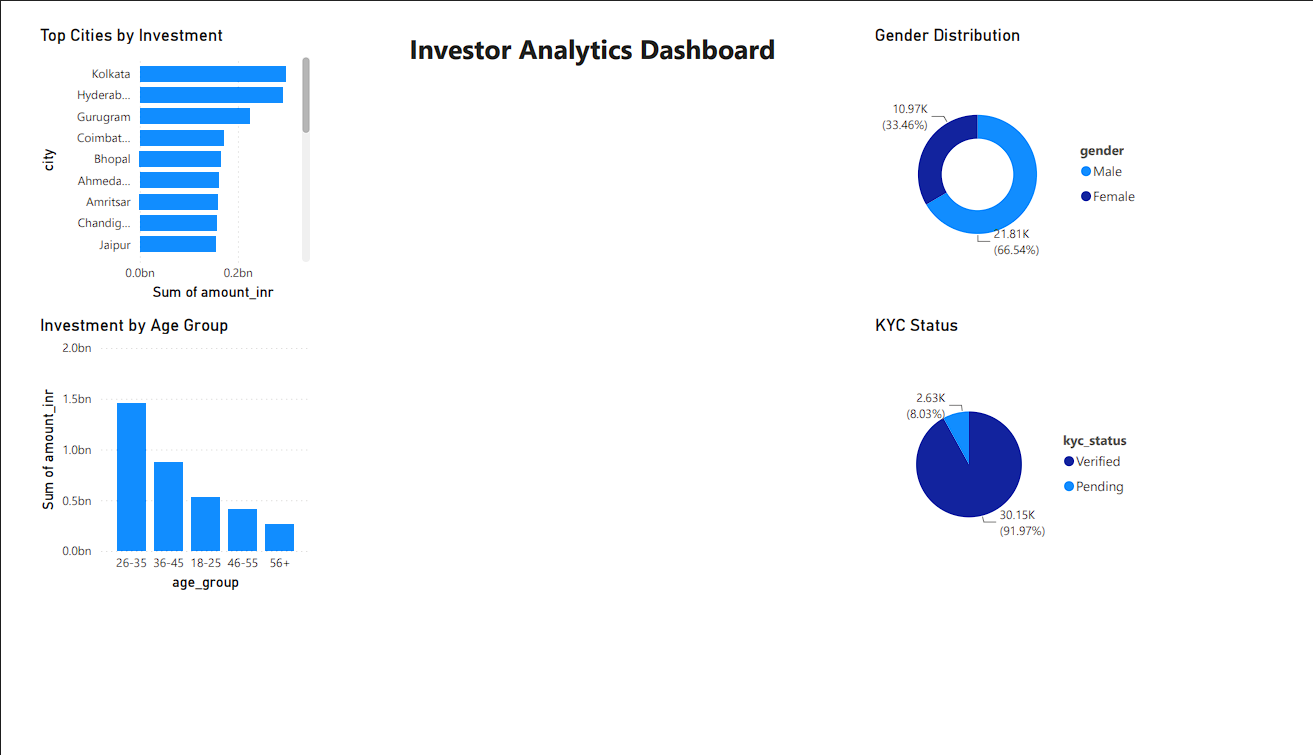

Layout of this report page (visuals, bound fields, positions):
{"tool":"powerbi","page":{"name":"Investor Analytics","canvas":[1280,720],"ordinal":3},"visuals":[{"type":"clusteredBarChart","title":"Top Cities by Investment","fields":{"Category":["08_investor_transactions.city"],"Y":["Sum(08_investor_transactions.amount_inr)"]},"box":[10,0,280,280],"z":0},{"type":"donutChart","title":"Gender Distribution","fields":{"Y":["CountNonNull(08_investor_transactions.investor_id)"],"Category":["08_investor_transactions.gender"]},"box":[845,0,280,280],"z":1000},{"type":"clusteredColumnChart","title":"Investment by Age Group","fields":{"Category":["08_investor_transactions.age_group"],"Y":["Sum(08_investor_transactions.amount_inr)"]},"box":[10,290,280,280],"z":2000},{"type":"pieChart","title":"KYC Status","fields":{"Category":["08_investor_transactions.kyc_status"],"Y":["CountNonNull(08_investor_transactions.investor_id)"]},"box":[845,290,280,280],"z":3000},{"type":"textbox","box":[290,0,555,140],"z":3001}]}

Visuals, with their boxes in screenshot pixels (x1, y1, x2, y2), scaled from the page's 1280x720 canvas onto the 1313x755 screenshot:
"Top Cities by Investment" clusteredBarChart: left=10, top=0, right=297, bottom=294
"Gender Distribution" donutChart: left=867, top=0, right=1154, bottom=294
"Investment by Age Group" clusteredColumnChart: left=10, top=304, right=297, bottom=598
"KYC Status" pieChart: left=867, top=304, right=1154, bottom=598
textbox: left=297, top=0, right=867, bottom=147
